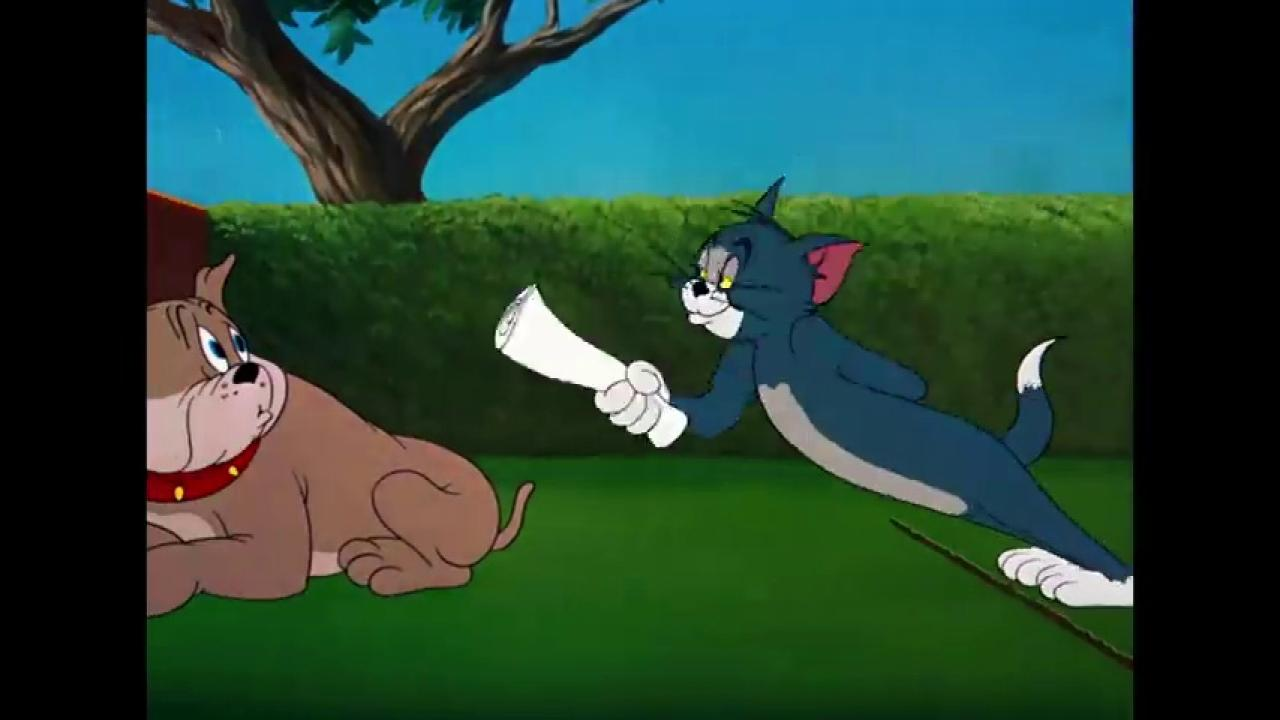Tom: (593, 173, 1134, 613)
